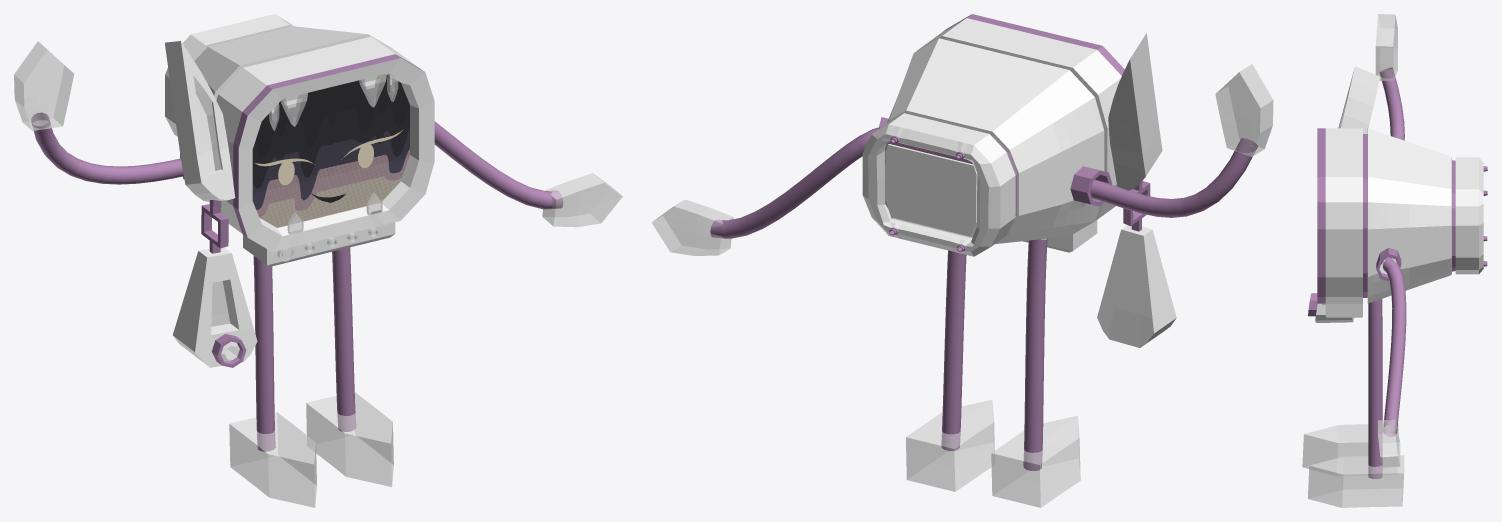
File: Robot.glb
3 renders of one model, left to right at view 1: azimuth 30°, elevation 25°; view 2: azimuth 150°, elevation 25°; view 3: azimuth 270°, elevation 25°, orthographic. The views are drawn at different scales.
Parts seen in each view (by area): view 1: Cube, Cube.002, Cube.003, Cube.001, BézierCurve.002, BézierCurve.003, BézierCurve, BézierCurve.001; view 2: Cube, Cube.002, Cube.001, BézierCurve.002, BézierCurve.003, BézierCurve, BézierCurve.001; view 3: Cube, Cube.002, BézierCurve.003, BézierCurve.001, Cube.001, BézierCurve.
Part boxes in pixels (x1,y1,x2,y2): Cube: [165, 14, 434, 266]; Cube.002: [14, 41, 622, 507]; Cube.003: [252, 74, 409, 227]; Cube.001: [165, 41, 257, 367]; BézierCurve.002: [253, 256, 275, 451]; BézierCurve.003: [332, 247, 356, 431]; BézierCurve: [31, 112, 183, 184]; BézierCurve.001: [434, 121, 563, 209]; Cube: [862, 14, 1129, 256]; Cube.002: [651, 64, 1273, 507]; Cube.001: [1097, 33, 1176, 347]; BézierCurve.002: [1023, 238, 1047, 470]; BézierCurve.003: [941, 250, 966, 450]; BézierCurve: [1090, 138, 1257, 217]; BézierCurve.001: [710, 127, 878, 238]; Cube: [1317, 128, 1487, 317]; Cube.002: [1302, 14, 1404, 507]; BézierCurve.003: [1368, 299, 1382, 478]; BézierCurve.001: [1383, 257, 1406, 436]; Cube.001: [1308, 66, 1380, 322]; BézierCurve: [1379, 67, 1404, 140].
Bounding box in the file's own units: 11.17 × 8.5 × 3.85.
Materials: 4 (1 with a texture image).
